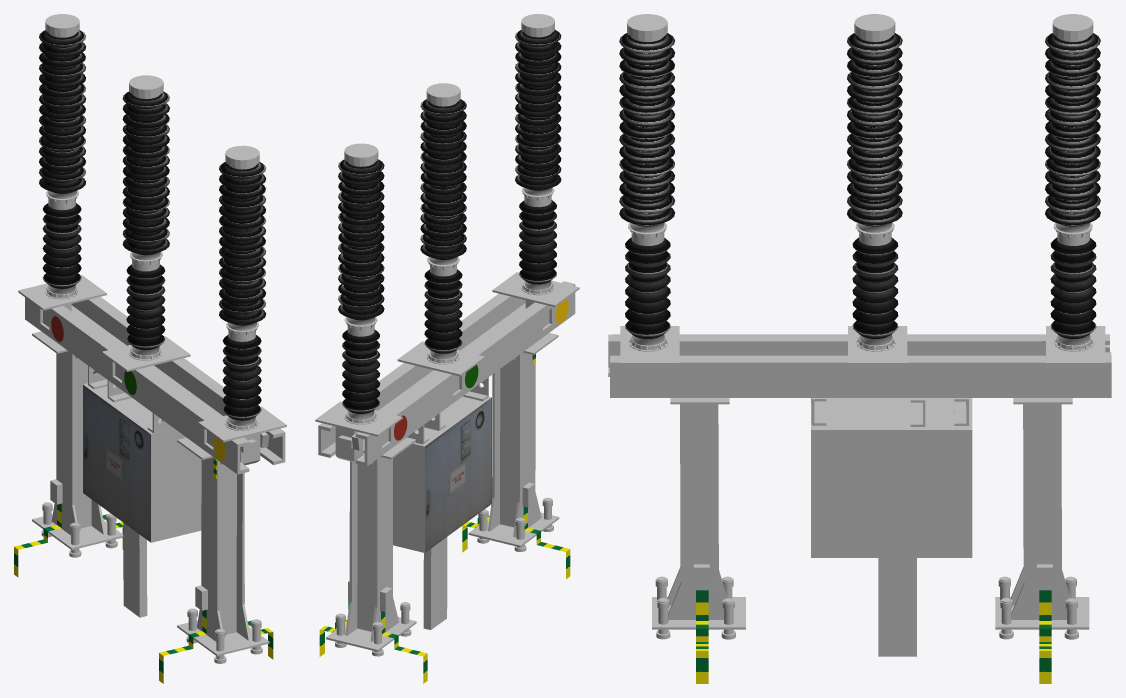
Rendered from duanluqi3.gltf.
3 renders of one model, left to right at view 1: azimuth 30°, elevation 25°; view 2: azimuth 150°, elevation 25°; view 3: azimuth 270°, elevation 25°, orthographic. The views are drawn at different scales.
Visible parts, largest first — view 1: DLQ-15M00000007485276; view 2: DLQ-15M00000007485276; view 3: DLQ-15M00000007485276.
Boxes of the visible parts, x1,y1,x2,y2 form: DLQ-15M00000007485276: [14, 14, 286, 683]; DLQ-15M00000007485276: [315, 14, 579, 683]; DLQ-15M00000007485276: [608, 14, 1111, 683].
Bounding box in the file's own units: 0.9909 × 4.73 × 3.41.
11 materials, 8 textured.
